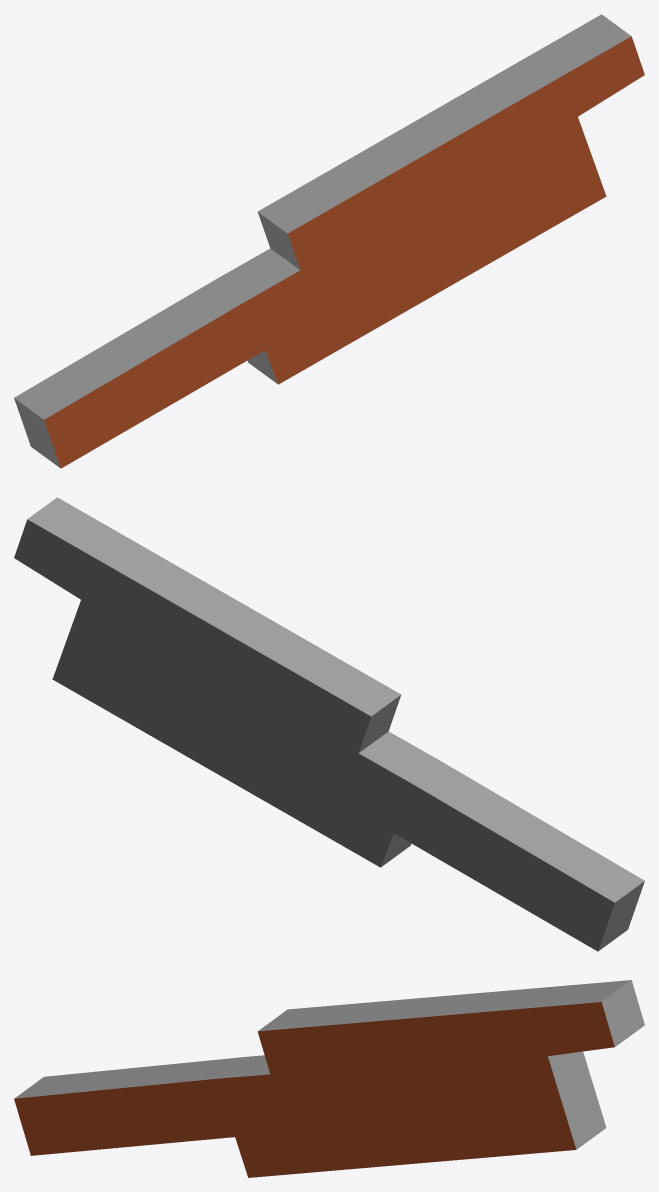
The model's file is construction_4339_assumed_A_Casa_h6m.obj.
3 views of the same model, one above another, from view 1: azimuth 30°, elevation 25°; view 2: azimuth 150°, elevation 25°; view 3: azimuth 330°, elevation 25° (orthographic).
Parts seen in each view (by area): view 1: construction_4339_assumed_A_Casa; view 2: construction_4339_assumed_A_Casa; view 3: construction_4339_assumed_A_Casa.
Boxes of the visible parts, x1,y1,x2,y2 form: construction_4339_assumed_A_Casa: (14,14,644,468); construction_4339_assumed_A_Casa: (14,497,644,951); construction_4339_assumed_A_Casa: (14,980,644,1177).
Size of the model in its own units: 69.26 by 32.29 by 6.
